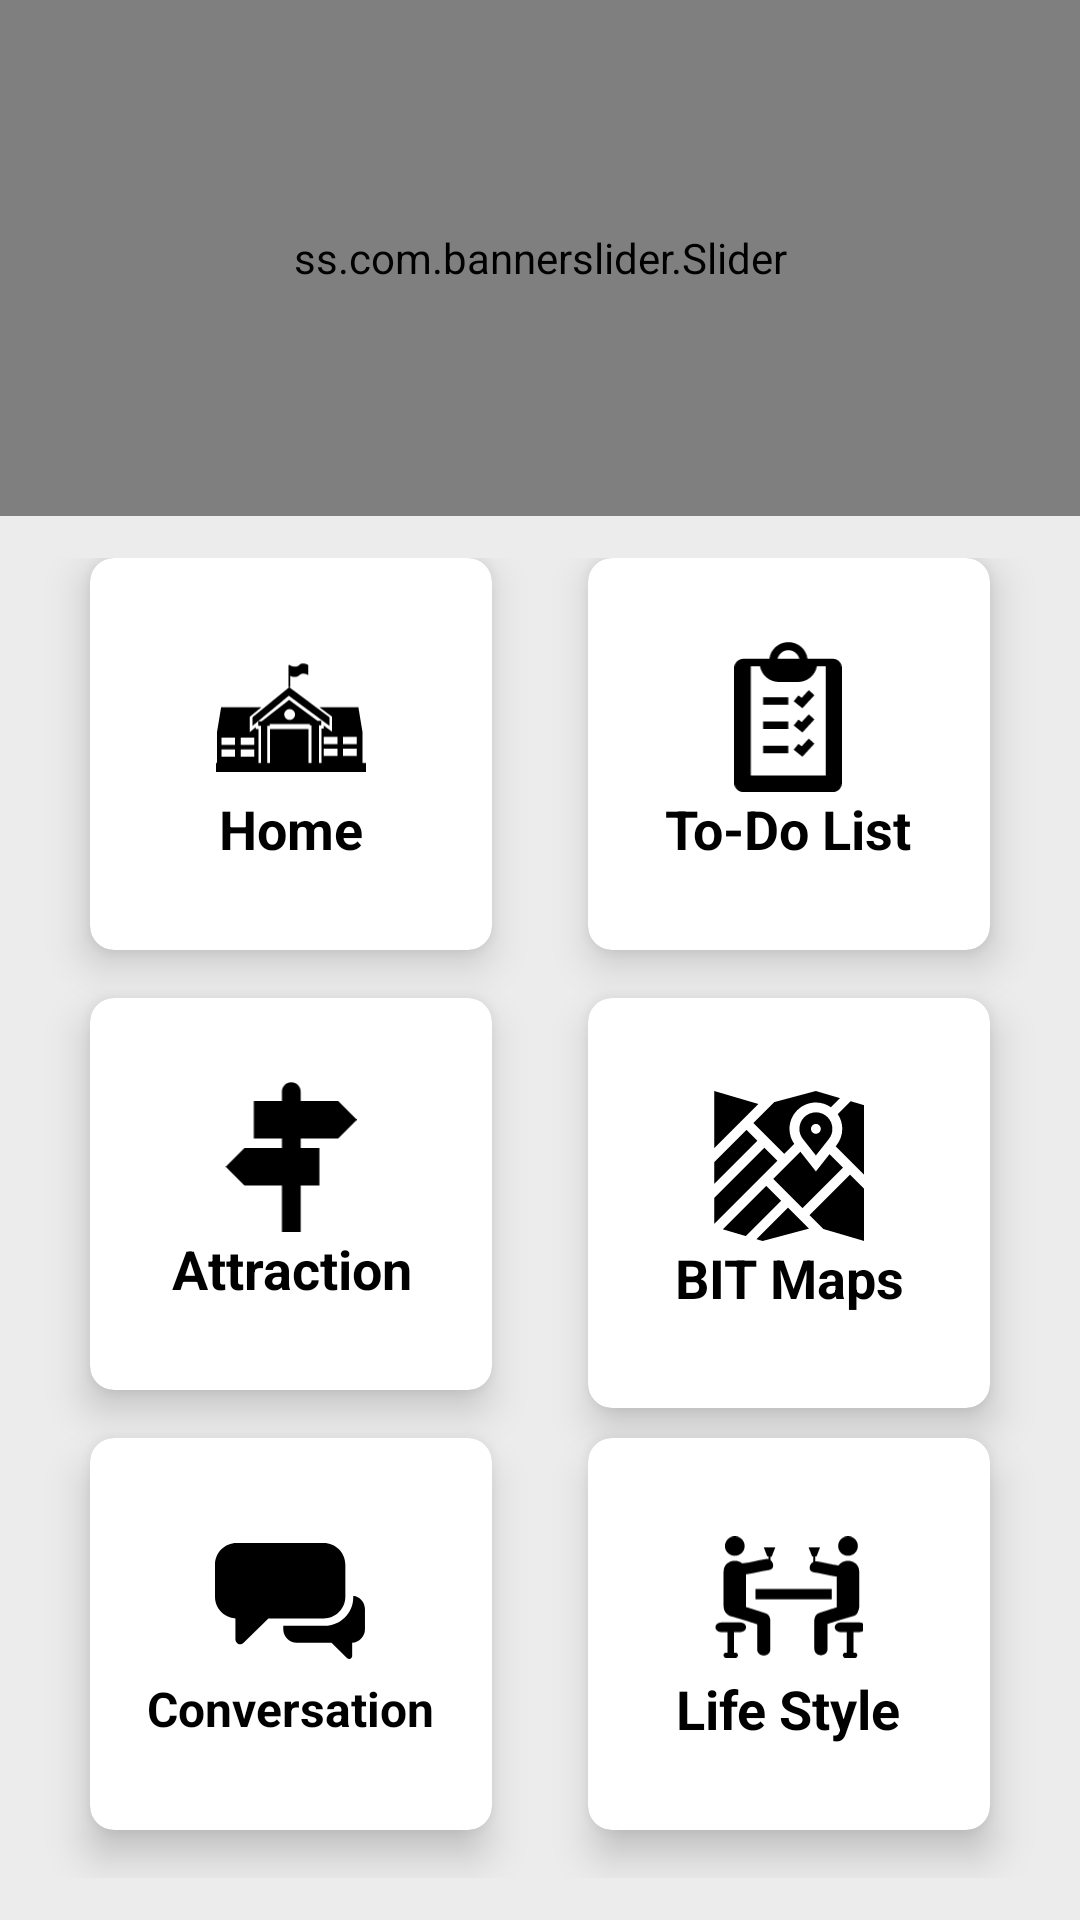

Icon bounding boxes for this 1080px x 1920px phone screenshot, format (x1, y1, x2, y2):
2bubbletalk: (215, 1543, 365, 1659)
streetmap: (714, 1091, 864, 1241)
toast: (715, 1536, 863, 1658)
univ: (216, 663, 366, 772)
